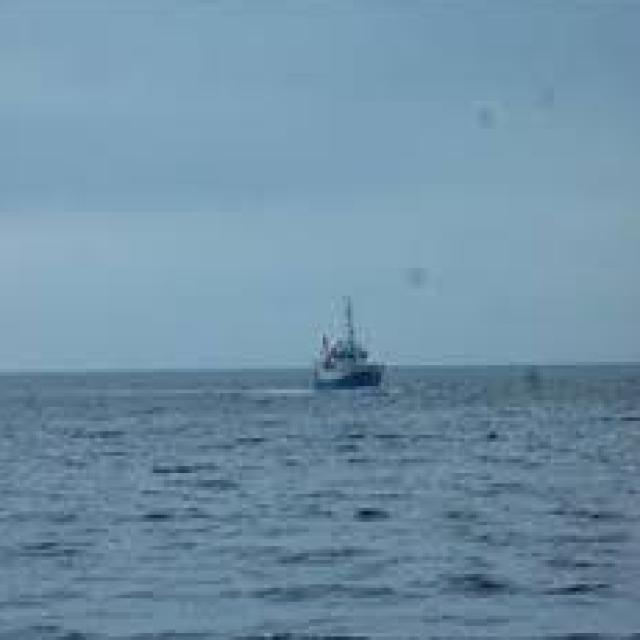fishing boat: (304, 306, 395, 397)
